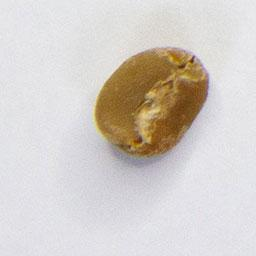defect: (91, 43, 213, 161)
